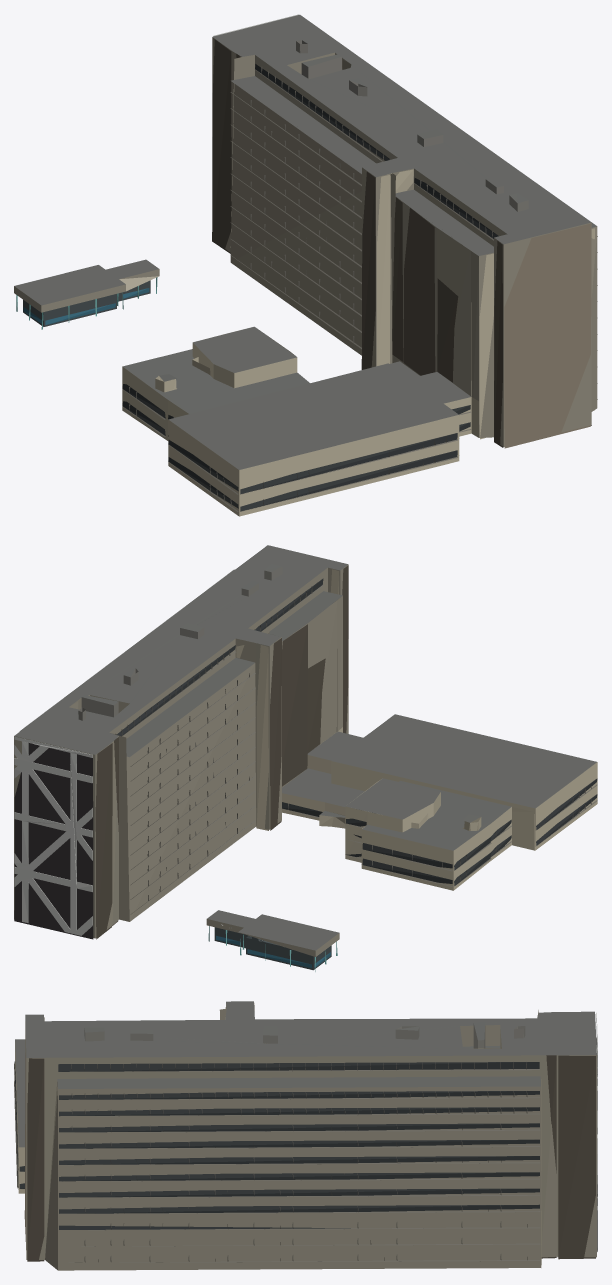
The model's file is radion.lod1.glb.
The picture shows the model from 3 angles, top to bottom: view 1: azimuth 30°, elevation 25°; view 2: azimuth 150°, elevation 25°; view 3: azimuth 270°, elevation 25°; orthographic projection. The views are drawn at different scales.
Visible parts, largest first — view 1: radion; view 2: radion; view 3: radion.
Boxes of the visible parts, x1,y1,x2,y2 form: radion: [14, 14, 597, 516]; radion: [14, 545, 597, 971]; radion: [14, 1001, 597, 1270].
Size of the model in its own units: 81.06 by 43.23 by 107.
